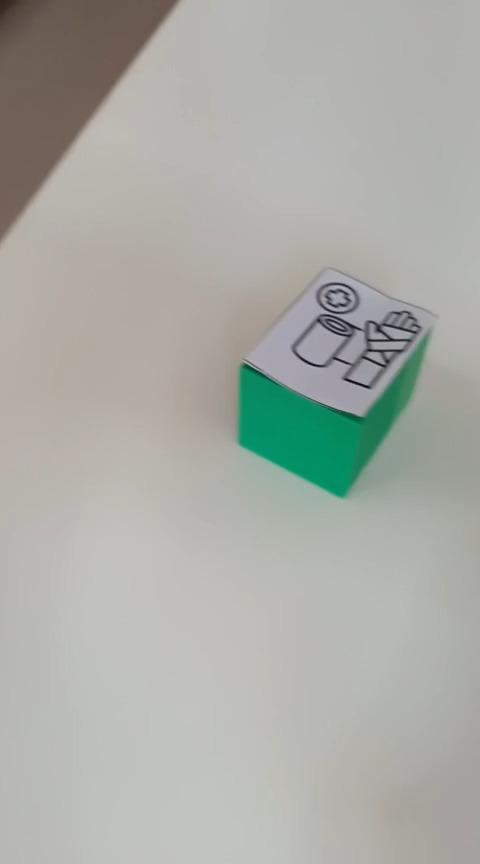Bandages: (235, 265, 438, 498)
